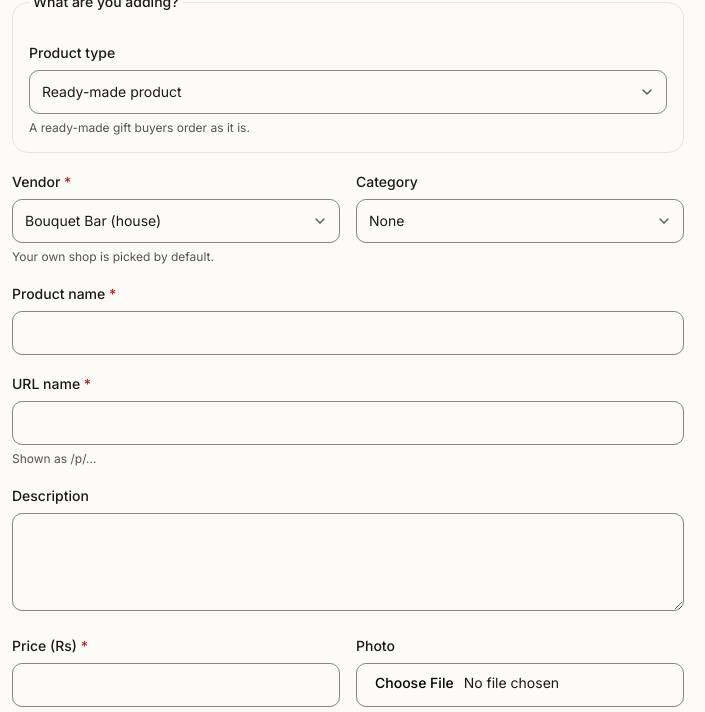
Test: AddProductForm › reports a duplicate URL name
Type "Red Roses" into the field labelled "Product name *" at (348, 333), box top-left (12, 311), bottom-right (684, 355)
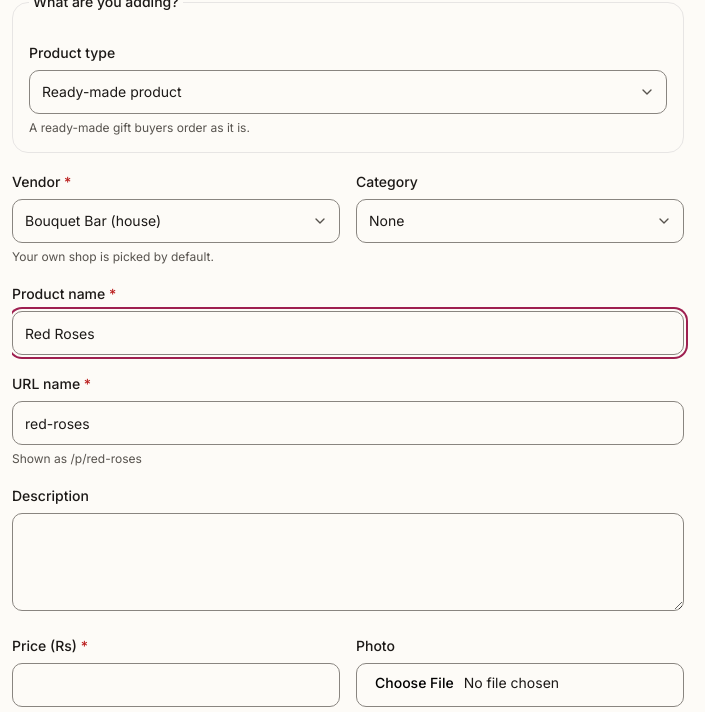
Type "2500" into the field labelled "Price (Rs) *" at (176, 685), box top-left (12, 663), bottom-right (340, 707)
(page scrolled)
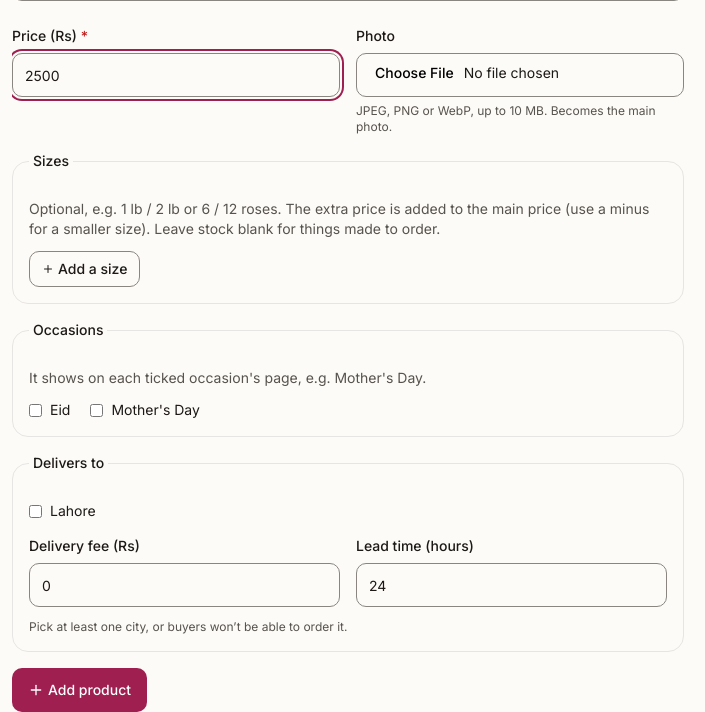
Click the button "Add product" at (80, 690), box top-left (12, 668), bottom-right (147, 711)
(page scrolled)
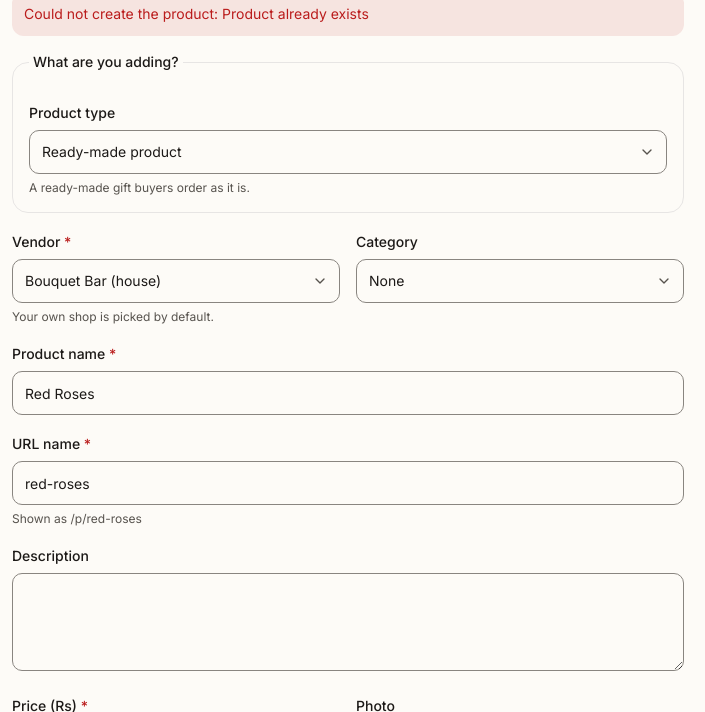
expect the text "Could not create the product: Product already exists" is shown: met, box top-left (24, 5), bottom-right (369, 22)
